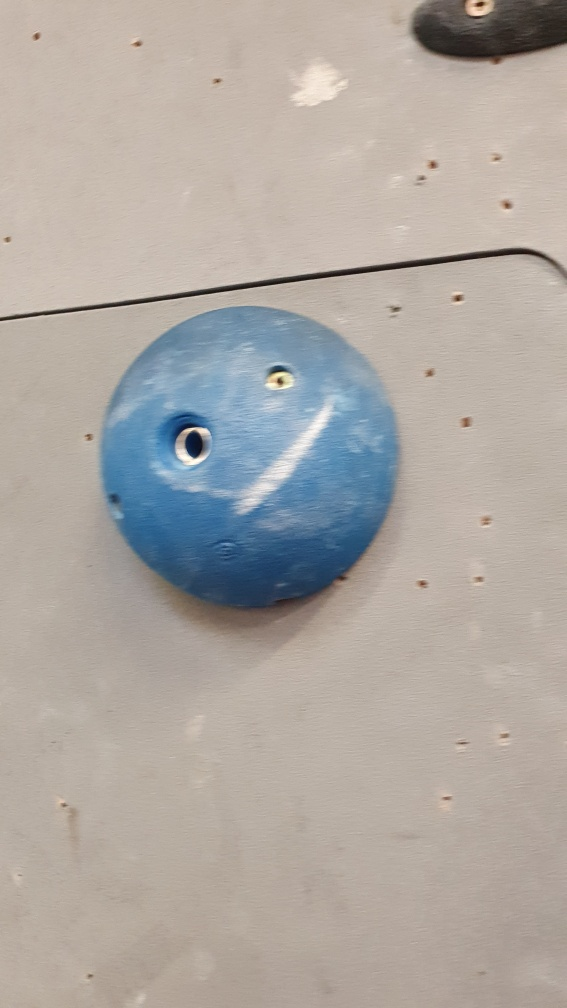Sloper: (95, 301, 406, 618)
